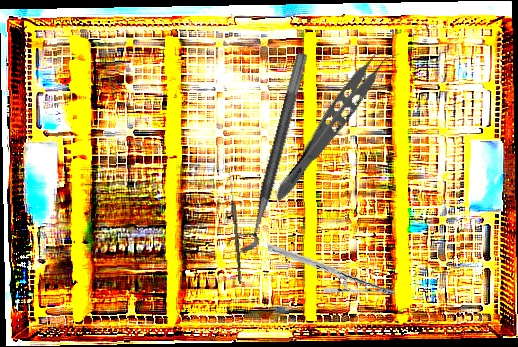Fixation Ring: (225, 47, 310, 257)
Needle Holder: (267, 225, 396, 315)
Surgical Spoon: (227, 173, 244, 284)
Tissue Forceps: (269, 36, 402, 213)
